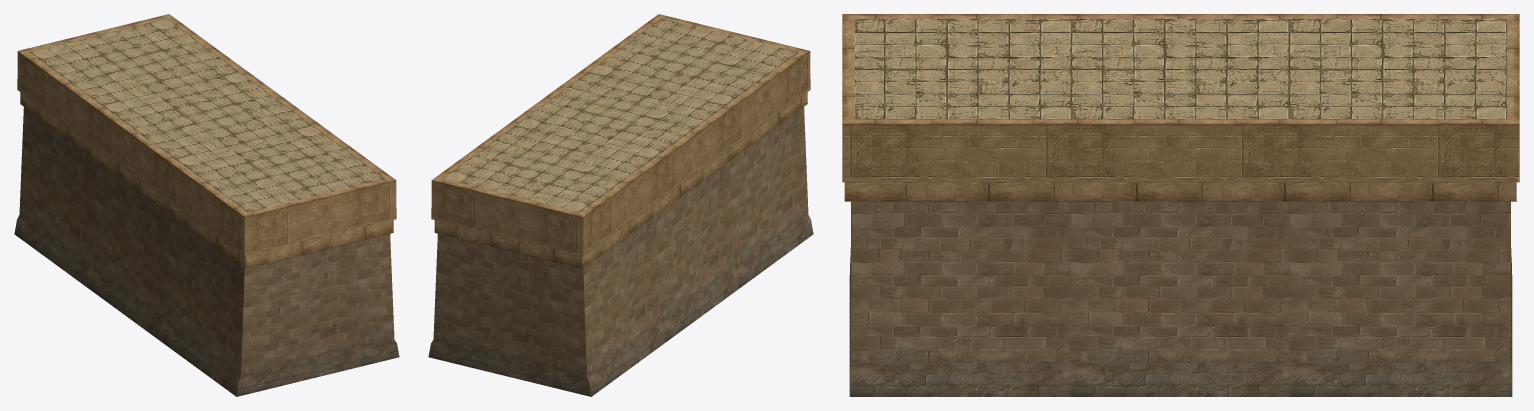
File: environment_Building_fenghuotai_b.FBX
The picture shows the model from 3 angles, left to right: view 1: azimuth 30°, elevation 25°; view 2: azimuth 150°, elevation 25°; view 3: azimuth 270°, elevation 25°; orthographic projection. The views are drawn at different scales.
Visible parts, largest first — view 1: environment_Building_fenghuotai_b01, environment_Building_fenghuotai_b03, environment_Building_fenghuotai_b02; view 2: environment_Building_fenghuotai_b01, environment_Building_fenghuotai_b03, environment_Building_fenghuotai_b02; view 3: environment_Building_fenghuotai_b01, environment_Building_fenghuotai_b03, environment_Building_fenghuotai_b02.
Boxes of the visible parts, x1,y1,x2,y2 form: environment_Building_fenghuotai_b01: (14,107,399,396); environment_Building_fenghuotai_b03: (29,19,384,212); environment_Building_fenghuotai_b02: (17,14,396,268); environment_Building_fenghuotai_b01: (428,107,813,396); environment_Building_fenghuotai_b03: (443,19,798,212); environment_Building_fenghuotai_b02: (431,14,810,268); environment_Building_fenghuotai_b01: (849,201,1512,396); environment_Building_fenghuotai_b03: (855,19,1506,119); environment_Building_fenghuotai_b02: (842,14,1519,201).
Size of the model in its own units: 125 by 301 by 132.
